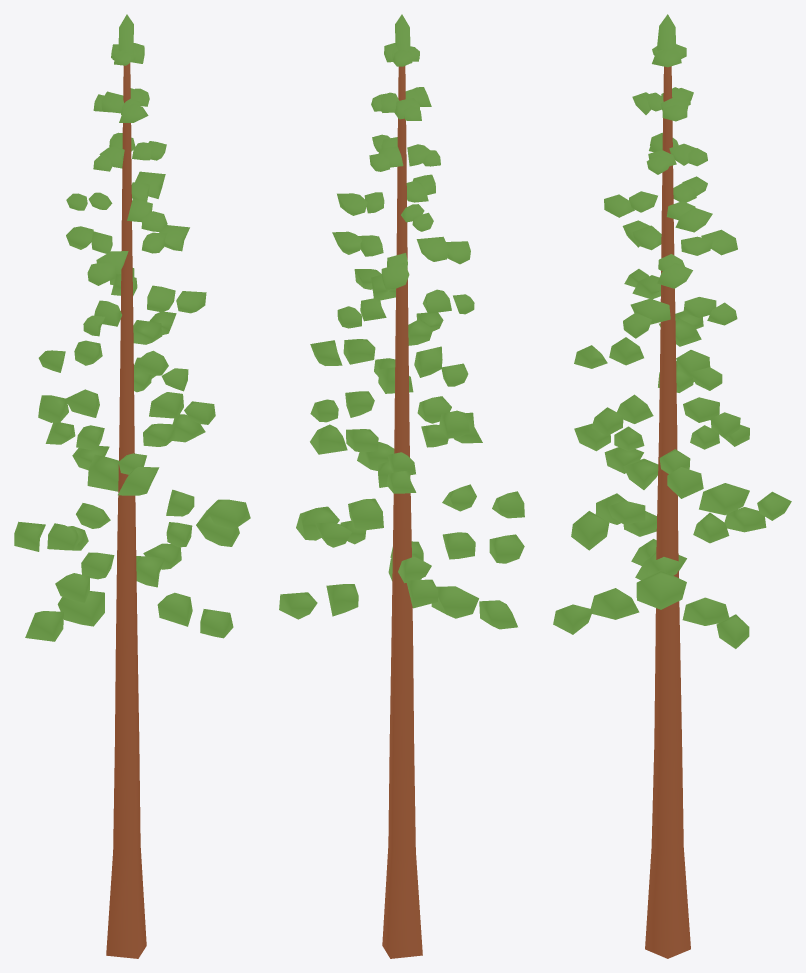
Rendered from Blender_WesternLarch_1_Far.glb.
3 views of the same model, side by side, from view 1: azimuth 30°, elevation 25°; view 2: azimuth 150°, elevation 25°; view 3: azimuth 270°, elevation 25° (orthographic).
Visible parts, largest first — view 1: Blender_WesternLarch_1_Far; view 2: Blender_WesternLarch_1_Far; view 3: Blender_WesternLarch_1_Far.
Boxes of the visible parts, x1=… form: Blender_WesternLarch_1_Far: x1=14, y1=14, x2=250, y2=958; Blender_WesternLarch_1_Far: x1=279, y1=14, x2=524, y2=958; Blender_WesternLarch_1_Far: x1=553, y1=14, x2=791, y2=958.
Bounding box in the file's own units: 8.26 × 33.82 × 7.83.
